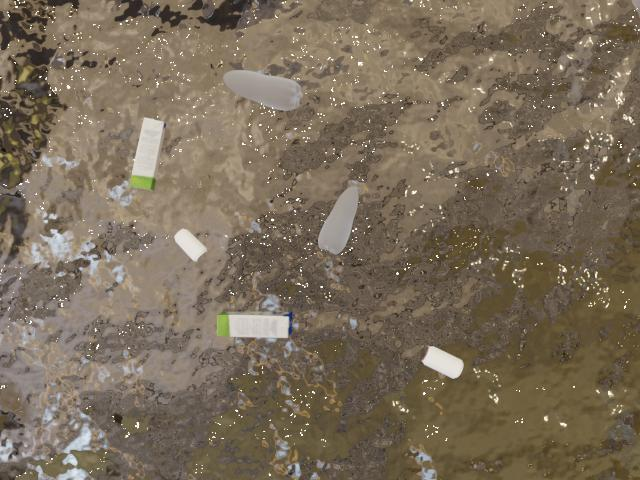Metal: (411, 340, 468, 389), (172, 221, 209, 268)
Plastic: (204, 63, 311, 123), (306, 174, 373, 265)
Trash: (125, 106, 171, 200), (209, 299, 298, 344)
